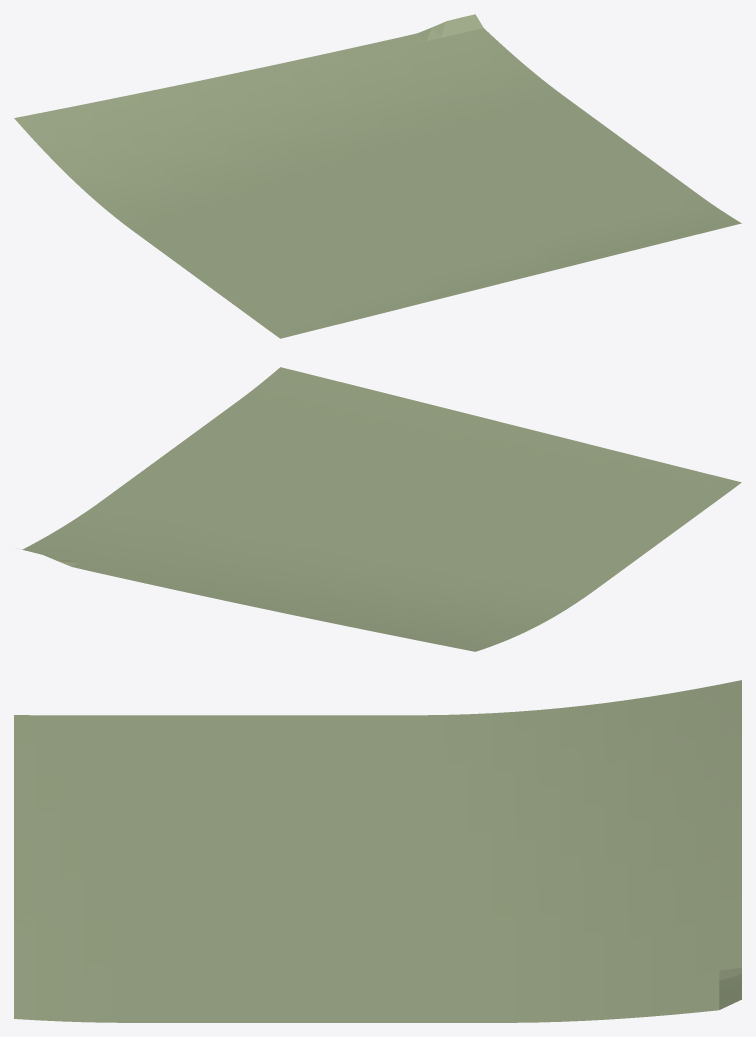
The model's file is valley-7-7.glb.
The picture shows the model from 3 angles, top to bottom: view 1: azimuth 30°, elevation 25°; view 2: azimuth 150°, elevation 25°; view 3: azimuth 270°, elevation 25°; orthographic projection. The views are drawn at different scales.
Visible parts, largest first — view 1: valley-7-7; view 2: valley-7-7; view 3: valley-7-7.
Part boxes in pixels (x1=…): valley-7-7: x1=14, y1=14, x2=741, y2=338; valley-7-7: x1=22, y1=367, x2=741, y2=651; valley-7-7: x1=14, y1=680, x2=741, y2=1022.
Bounding box in the file's own units: 256 × 13.66 × 256.
